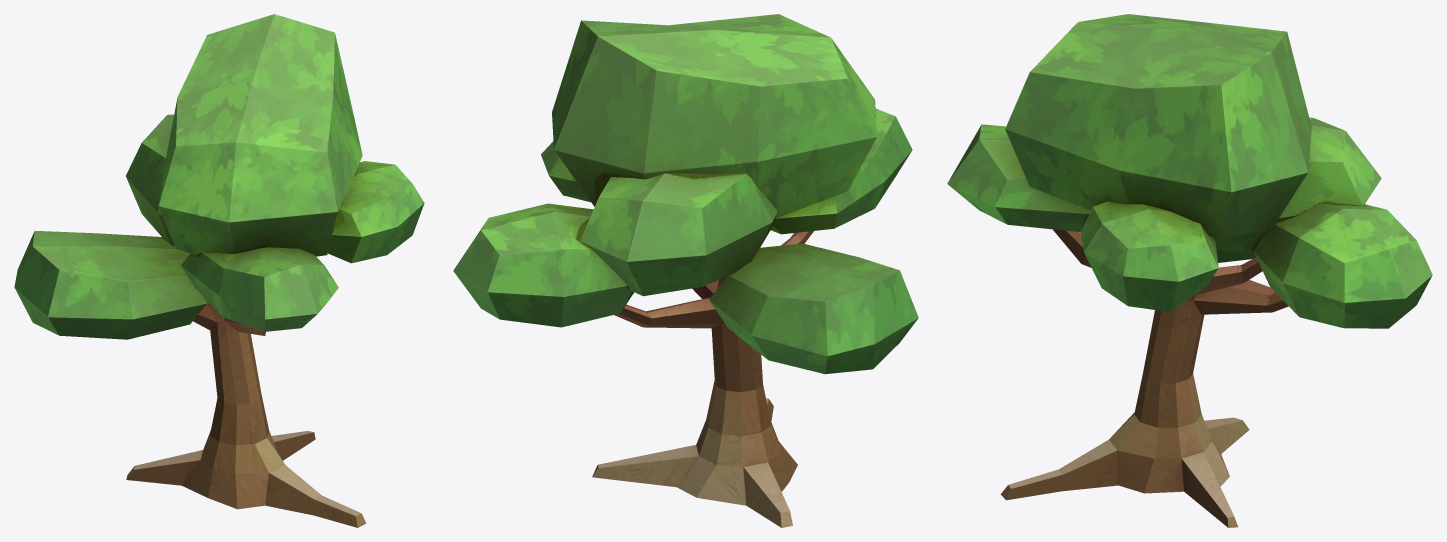
File: arbol-1.glb
The picture shows the model from 3 angles, left to right: view 1: azimuth 30°, elevation 25°; view 2: azimuth 150°, elevation 25°; view 3: azimuth 270°, elevation 25°; orthographic projection. The views are drawn at different scales.
Parts seen in each view (by area): view 1: Hojas, Arbol3; view 2: Hojas, Arbol3; view 3: Hojas, Arbol3.
Part boxes in pixels (box(x1,y1,x2,y2)): Hojas: box(14, 14, 424, 339); Arbol3: box(126, 302, 366, 527); Hojas: box(453, 14, 918, 374); Arbol3: box(592, 231, 813, 527); Hojas: box(947, 14, 1432, 328); Arbol3: box(1000, 229, 1288, 527).
Size of the model in its own units: 4.59 by 5.18 by 4.91.
Materials: 2 (2 with a texture image).
